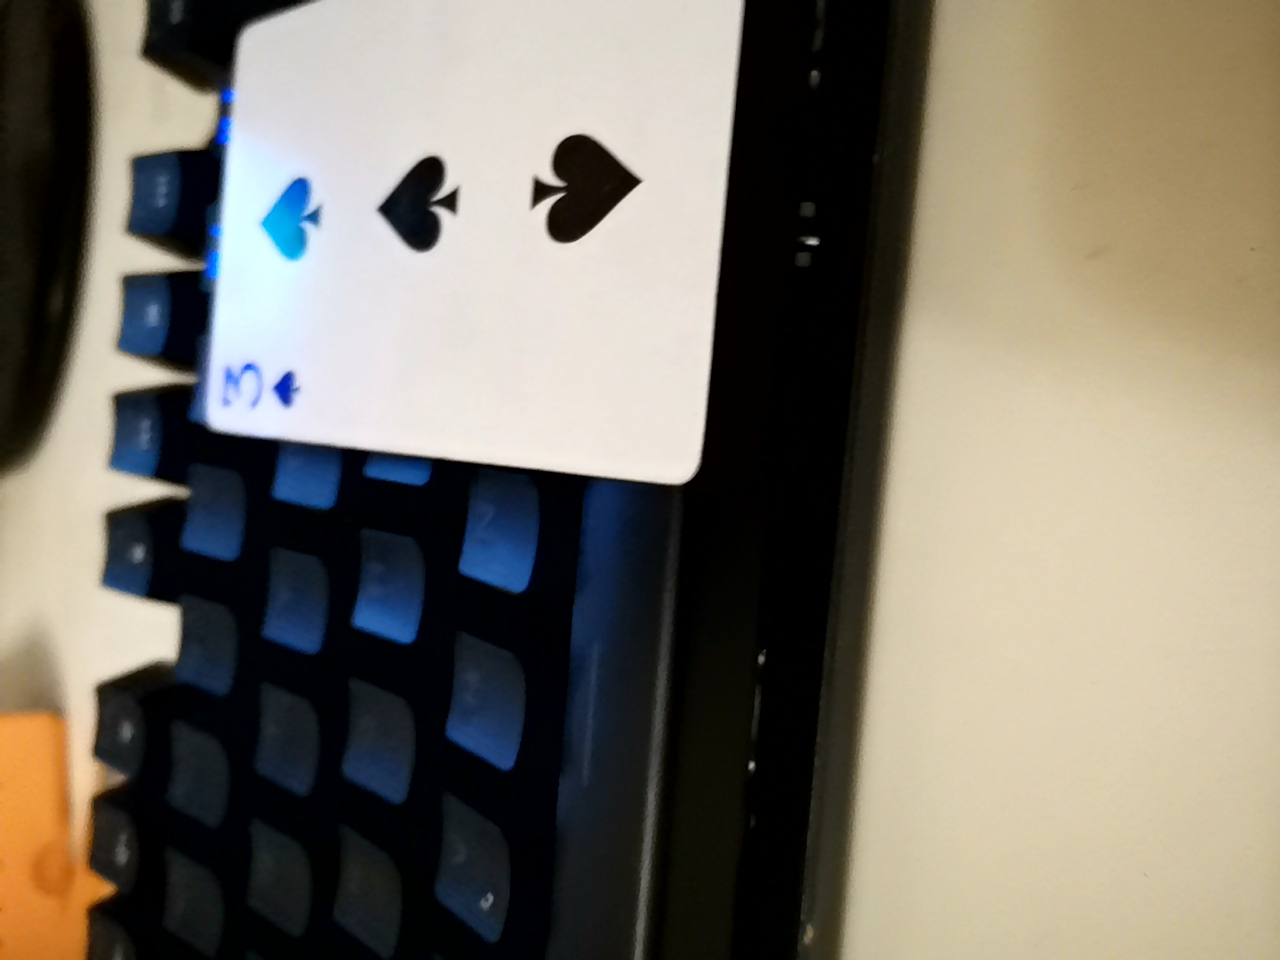ht 3: (191, 0, 783, 459)
